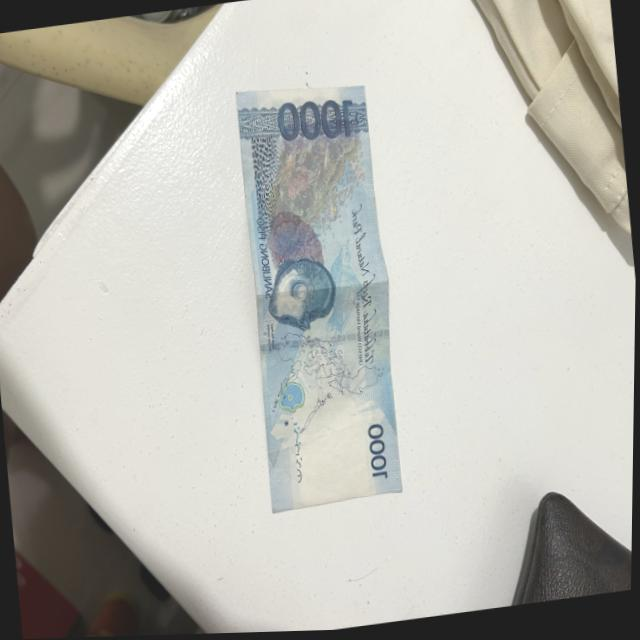1000_pearl: (264, 253, 344, 340)
1000_pearl_watermark: (280, 382, 307, 414)
